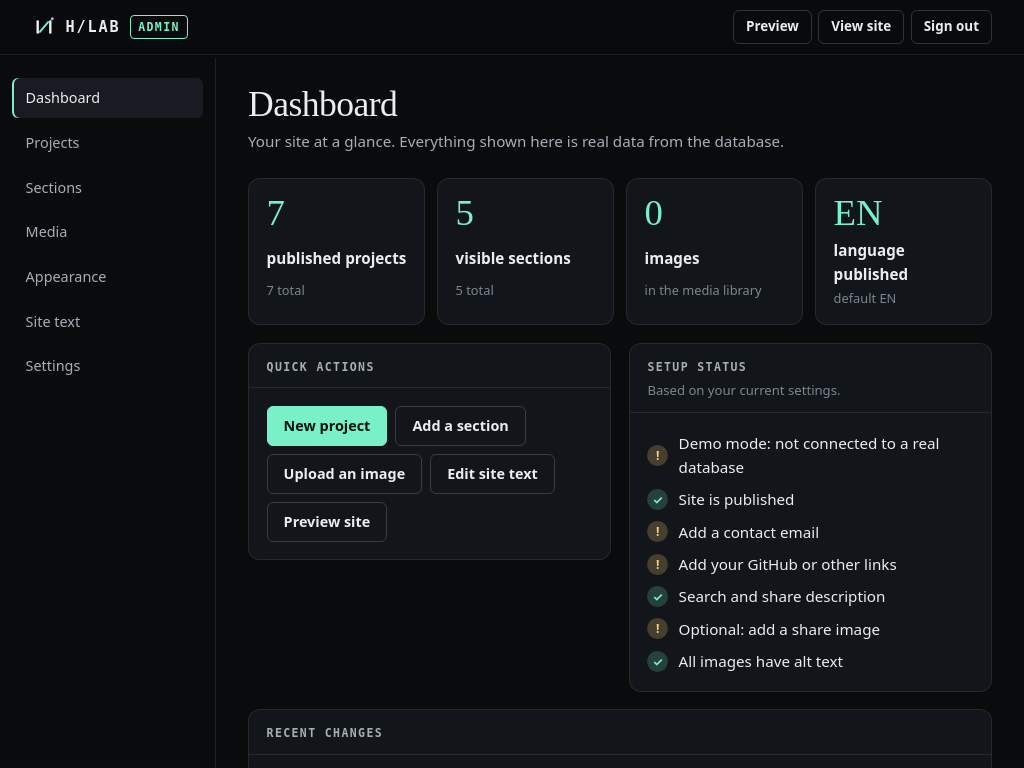
Test: admin authentication and authorization › signs out
Check: the heading "Dashboard" is shown, box [248,84,397,124]
Click the button "Sign out": (951, 27) [911,10,992,44]
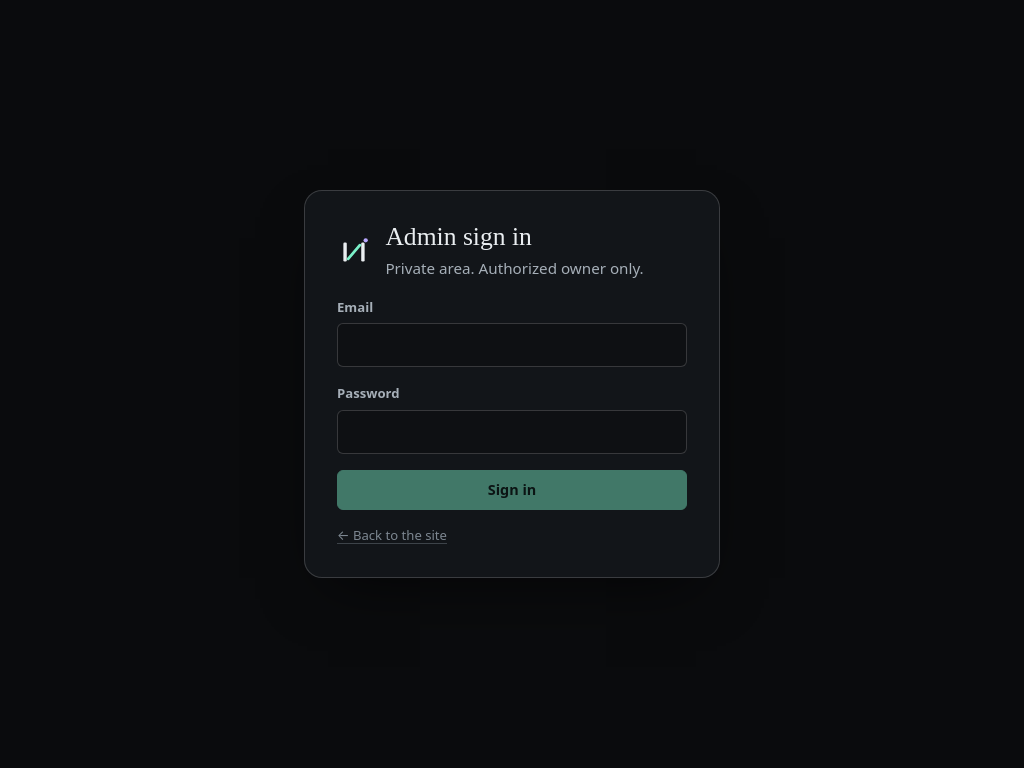
Check: the heading "Admin sign in" is shown, box [385,222,532,251]
